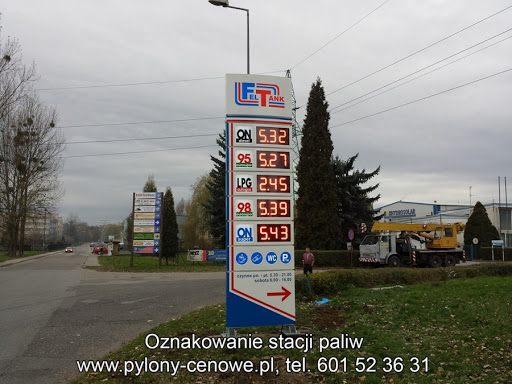LPG: (232, 173, 254, 193)
ON: (232, 123, 254, 146), (233, 222, 254, 242)
PB95: (232, 150, 254, 168)
PB98: (234, 200, 254, 216)
